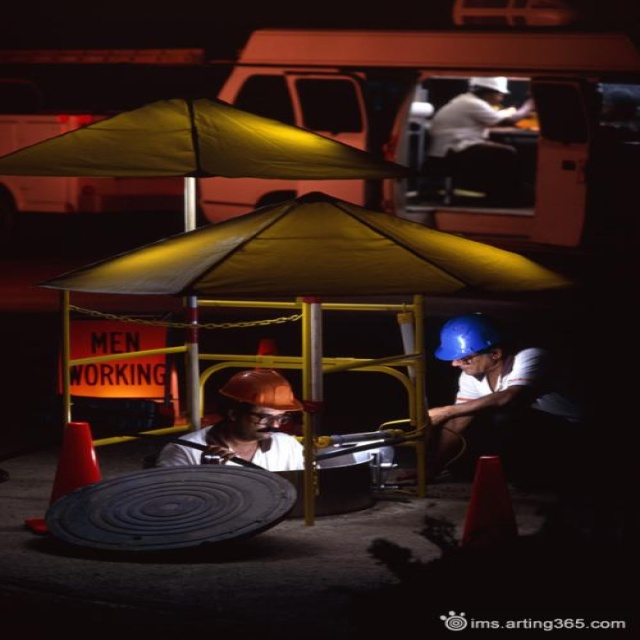Helmet: (428, 304, 519, 393), (215, 367, 304, 453)
